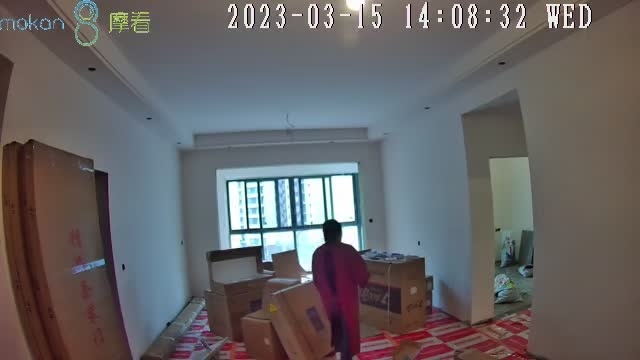people: (312, 220, 372, 360)
window: (227, 175, 363, 272)
